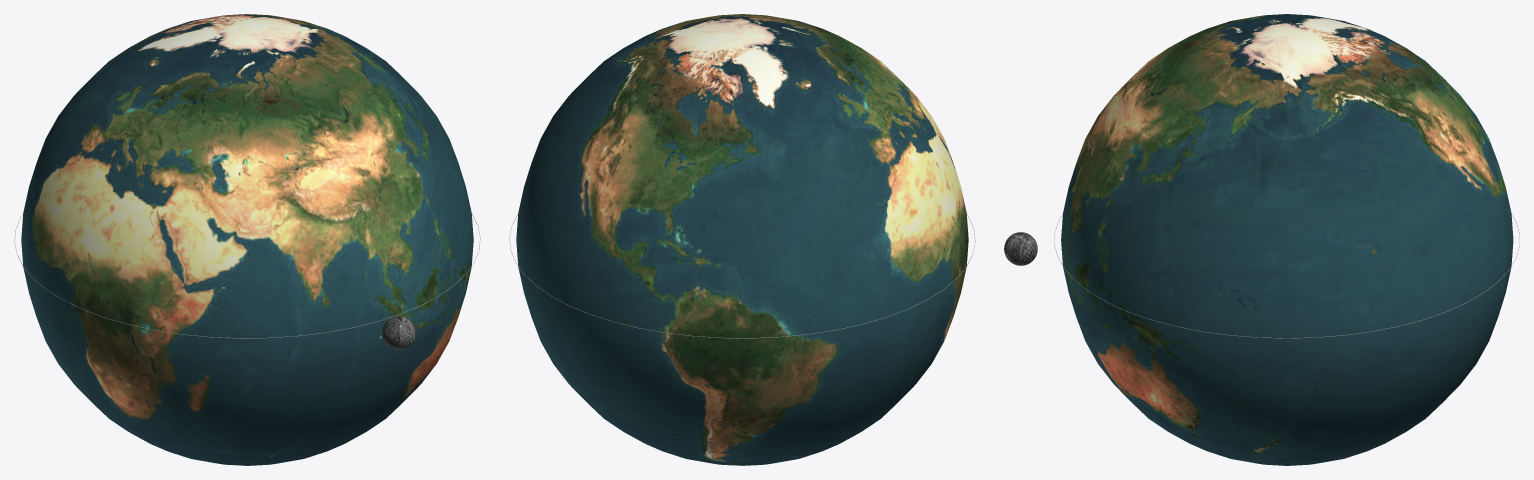
The model's file is some-asteroids-to-scale.obj.
The picture shows the model from 3 angles, left to right: view 1: azimuth 30°, elevation 25°; view 2: azimuth 150°, elevation 25°; view 3: azimuth 270°, elevation 25°; orthographic projection.
Parts seen in each view (by area): view 1: Earth, Ceres, Torus; view 2: Earth, Torus; view 3: Earth, Ceres, Torus.
Boxes of the visible parts, box(x1,y1,x2,y2) form: Earth: box(21, 14, 473, 465); Ceres: box(382, 316, 415, 349); Torus: box(14, 213, 480, 338); Earth: box(516, 14, 968, 465); Torus: box(509, 213, 975, 338); Earth: box(1061, 14, 1513, 465); Ceres: box(1004, 232, 1037, 265); Torus: box(1054, 214, 1519, 338).
Size of what is drawn, in the model's own units: 263 by 255 by 291.
6 materials, 2 textured.
